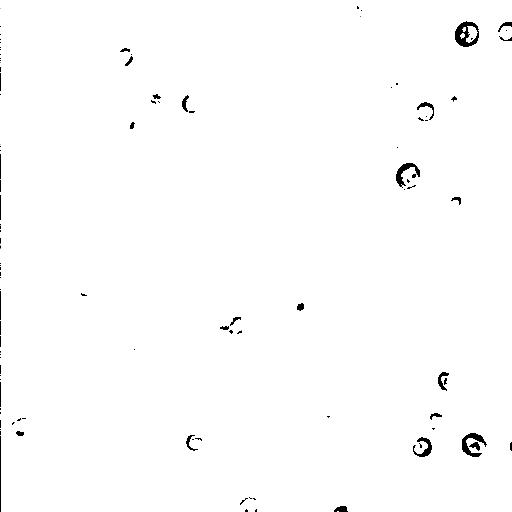micro-algae: (173, 274, 275, 373), (336, 53, 395, 113), (354, 93, 407, 148), (414, 457, 466, 508), (12, 253, 65, 302), (366, 5, 410, 53), (480, 419, 512, 481), (427, 411, 463, 445), (116, 337, 149, 370), (113, 109, 144, 139), (7, 415, 37, 444), (452, 19, 480, 47), (460, 431, 487, 459), (395, 161, 421, 190), (387, 131, 413, 159), (444, 83, 467, 114), (283, 293, 311, 317), (53, 301, 75, 330), (378, 74, 403, 99), (131, 0, 168, 16), (226, 312, 249, 337), (349, 1, 376, 21), (251, 435, 277, 455), (179, 91, 201, 113), (413, 436, 433, 459), (72, 279, 95, 298), (437, 371, 457, 392), (236, 495, 261, 511), (417, 101, 435, 121), (497, 19, 512, 42), (115, 47, 133, 66), (187, 433, 204, 450), (448, 195, 463, 209), (331, 503, 352, 511), (506, 435, 512, 455)
